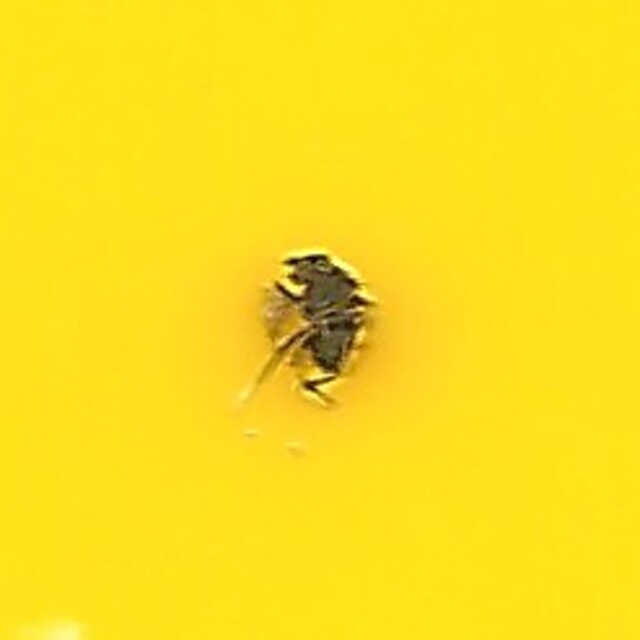Brachycera: (259, 240, 381, 400)
